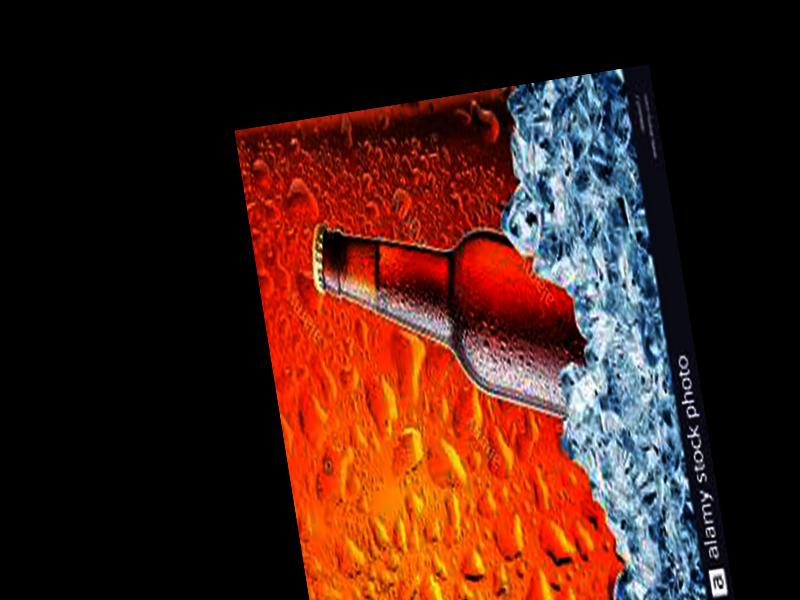Beer: (302, 173, 598, 450)
